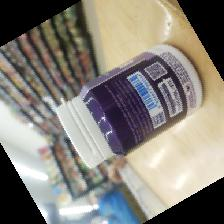Xylitol_BTS: (55, 43, 205, 169)
